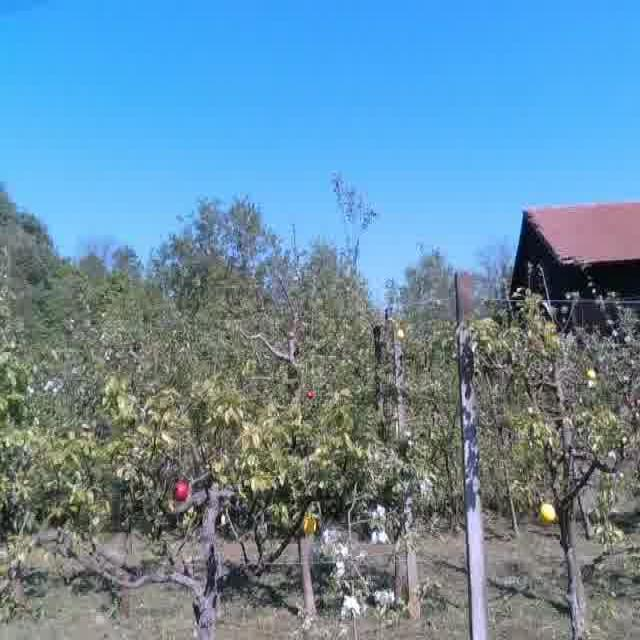red: (172, 477, 191, 503), (306, 388, 316, 400)
yellow: (537, 502, 558, 524), (305, 514, 322, 536), (584, 368, 597, 381)
